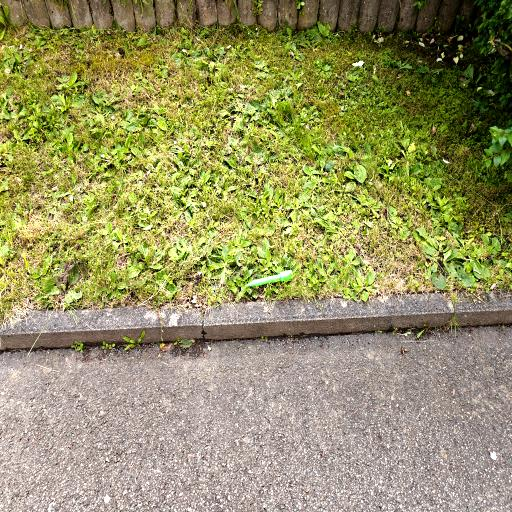Probe-Detection: (246, 270, 292, 286)
